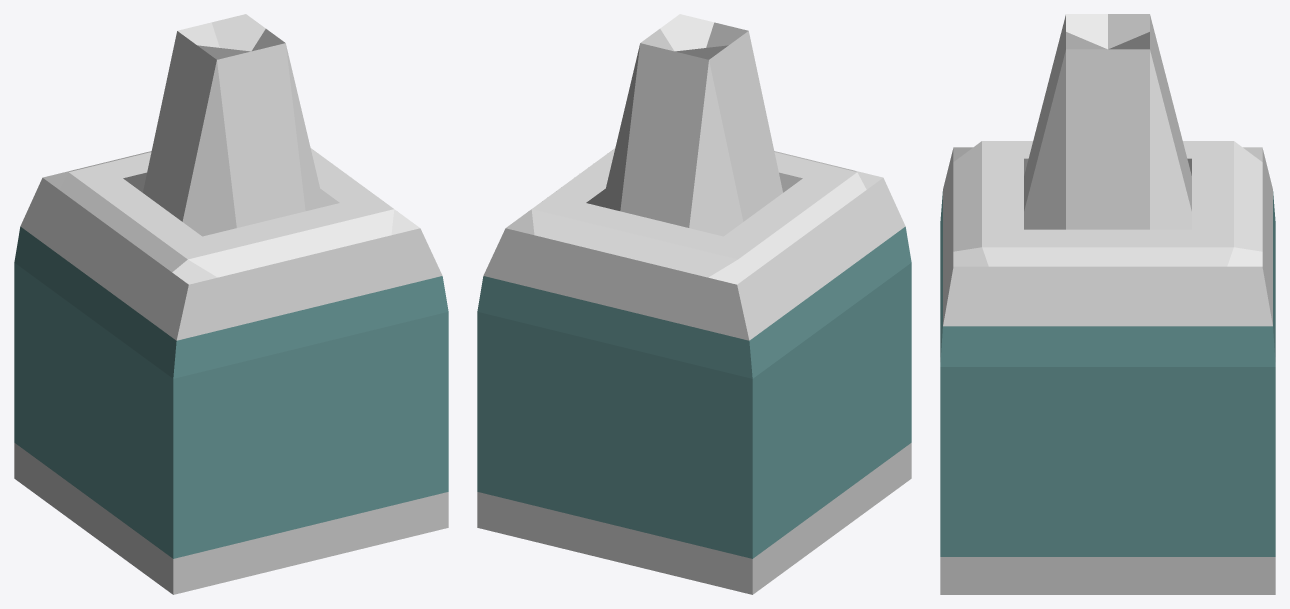
File: glueMesh.fbx
The picture shows the model from 3 angles, left to right: view 1: azimuth 30°, elevation 25°; view 2: azimuth 150°, elevation 25°; view 3: azimuth 270°, elevation 25°; orthographic projection. The views are drawn at different scales.
Visible parts, largest first — view 1: pCube4; view 2: pCube4; view 3: pCube4.
Boxes of the visible parts, x1=… form: pCube4: x1=14, y1=14, x2=448, y2=594; pCube4: x1=477, y1=14, x2=911, y2=594; pCube4: x1=940, y1=14, x2=1275, y2=594.
Bounding box in the file's own units: 1 × 1.62 × 1.
